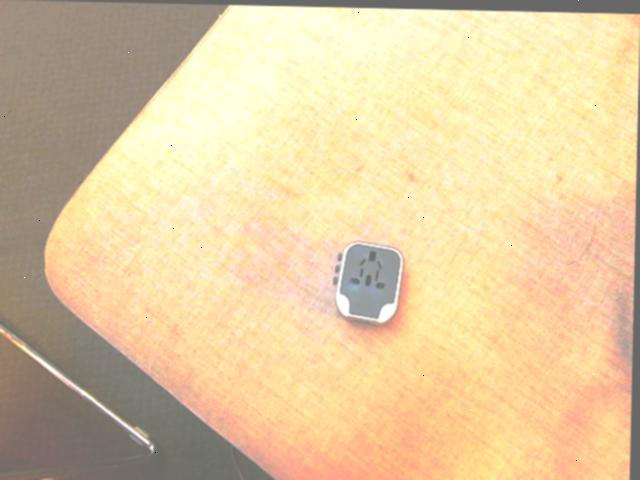adapter: (333, 238, 405, 323)
